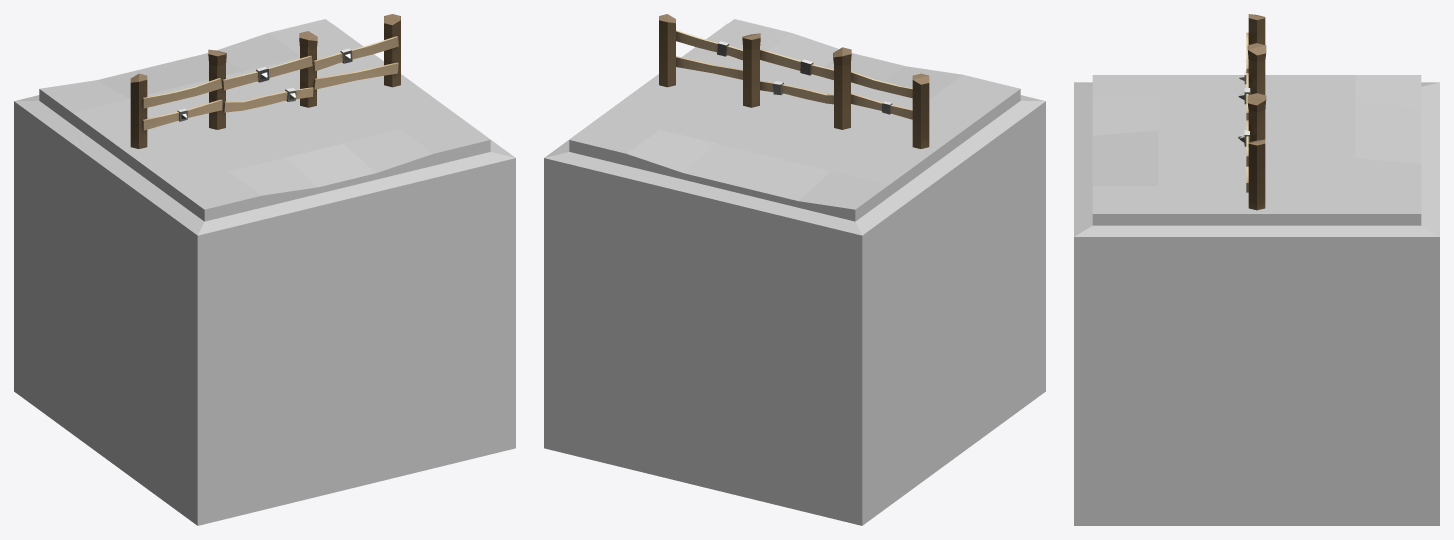
File: tile_fence.fbx
3 renders of one model, left to right at view 1: azimuth 30°, elevation 25°; view 2: azimuth 150°, elevation 25°; view 3: azimuth 270°, elevation 25°, orthographic.
Visible parts, largest first — view 1: Tile, Ground, Spikes.004; view 2: Tile, Ground, Spikes.004; view 3: Tile, Ground, Spikes.004.
Boxes of the visible parts, <box> form: Tile: <box>14,23,515,525</box>; Ground: <box>39,19,490,221</box>; Spikes.004: <box>130,14,400,148</box>; Tile: <box>544,23,1045,525</box>; Ground: <box>569,19,1020,221</box>; Spikes.004: <box>659,14,929,148</box>; Tile: <box>1074,82,1439,525</box>; Ground: <box>1092,75,1421,225</box>; Spikes.004: <box>1238,14,1266,210</box>.
Size of the model in its own units: 0.04 by 0.0456 by 0.04.
